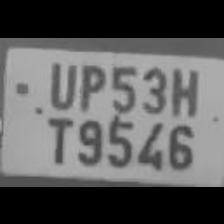3: (136, 61, 168, 111)
4: (134, 116, 164, 170)
5: (102, 110, 134, 168), (105, 60, 139, 112)
6: (164, 118, 198, 170)
9: (74, 113, 102, 165)
H: (165, 62, 199, 119)
P: (74, 58, 106, 110)
T: (40, 113, 72, 166)
U: (44, 56, 76, 108)
